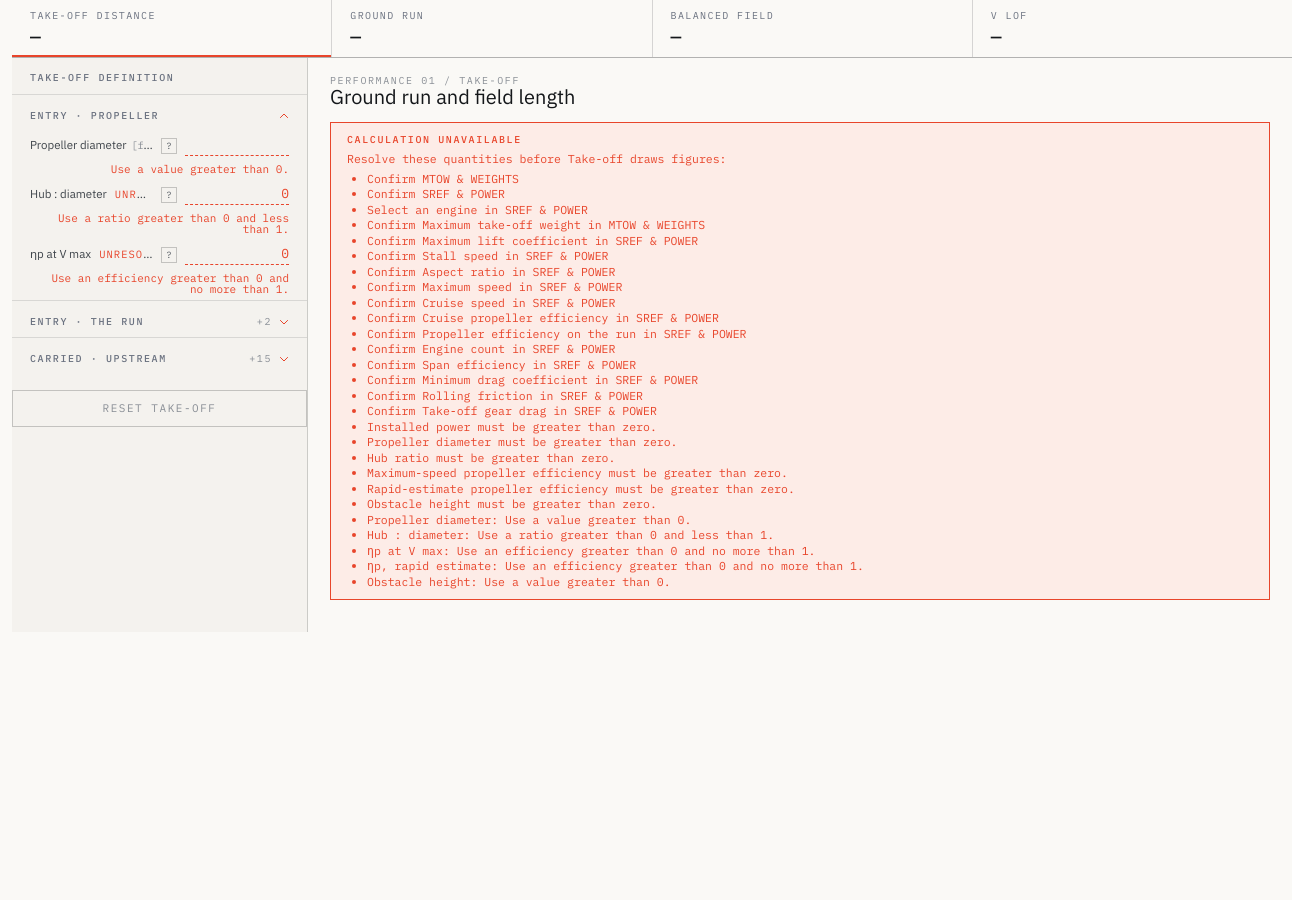
Test: TakeOff › marks unresolved carried inputs as provisional
This screenshot has width=1292, height=900.
What coordinates should you click on to do the following:
click the text "CARRIED · UPSTREAM"
I would click on:
 (98, 359)
Its box is [30,354,167,364].
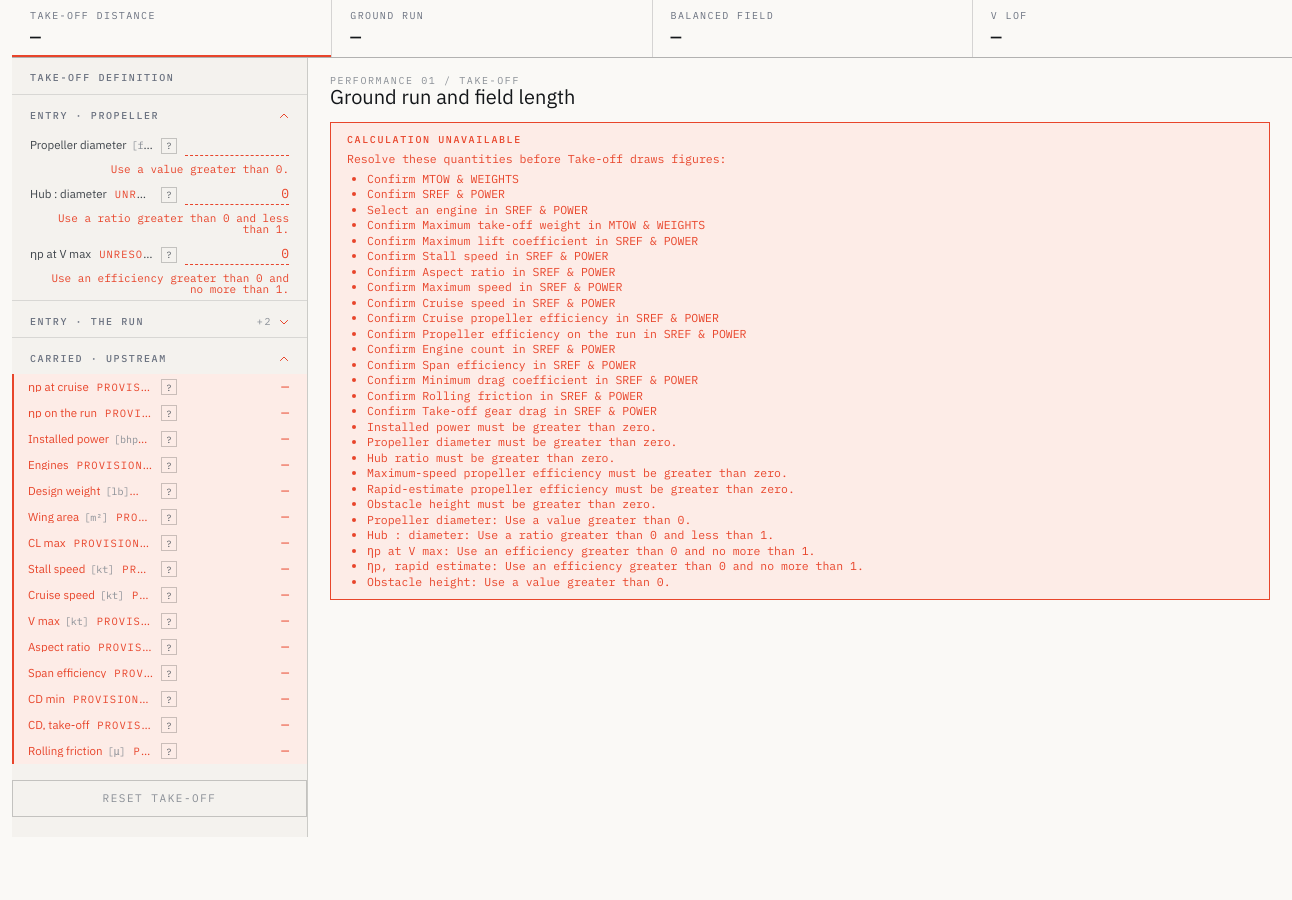
Now the text "Wing area" is shown, box [28,508,79,524]
Now the text "Design weight" is shown, box [28,482,100,498]
Now the text "Installed power" is shown, box [28,430,109,446]
